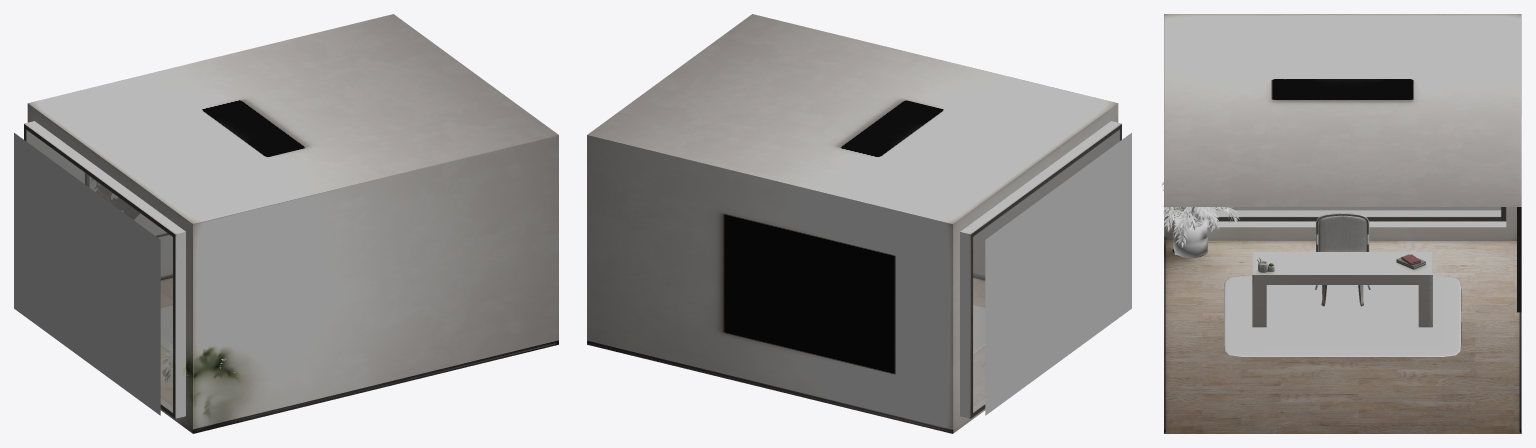
File: modern_office.fbx
3 views of the same model, side by side, from view 1: azimuth 30°, elevation 25°; view 2: azimuth 150°, elevation 25°; view 3: azimuth 270°, elevation 25° (orthographic). The views are drawn at different scales.
Visible parts, largest first — view 1: Window; view 2: Window; view 3: Window.
Boxes of the visible parts, x1=… form: Window: x1=14, y1=14, x2=558, y2=433; Window: x1=587, y1=14, x2=1131, y2=433; Window: x1=1161, y1=14, x2=1521, y2=433.
Size of the model in its own units: 1956 by 1008 by 1454.
